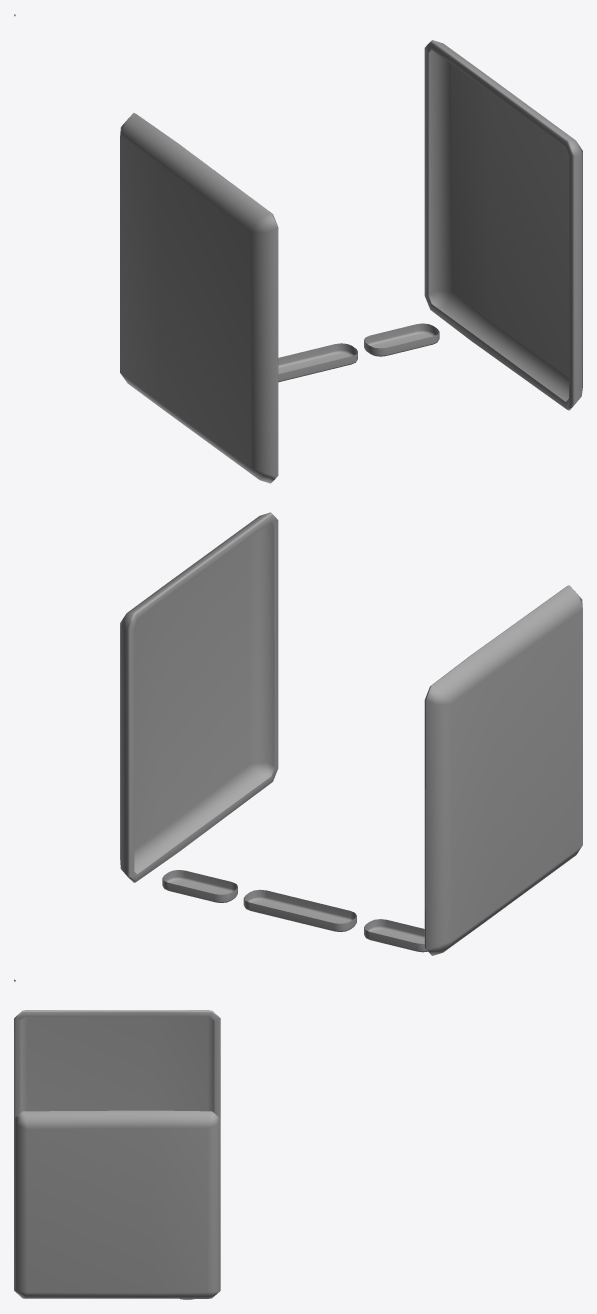
File: AlarmClock_25_AlarmClock_25_0_GeomSubset_2.obj
3 renders of one model, top to bottom at view 1: azimuth 30°, elevation 25°; view 2: azimuth 150°, elevation 25°; view 3: azimuth 270°, elevation 25°, orthographic. The views are drawn at different scales.
Visible parts, largest first — view 1: AlarmClock_25_AlarmClock_25_0_GeomSubset_2; view 2: AlarmClock_25_AlarmClock_25_0_GeomSubset_2; view 3: AlarmClock_25_AlarmClock_25_0_GeomSubset_2.
Part boxes in pixels (<box>): AlarmClock_25_AlarmClock_25_0_GeomSubset_2: <box>14,14,582,483</box>; AlarmClock_25_AlarmClock_25_0_GeomSubset_2: <box>14,512,582,981</box>; AlarmClock_25_AlarmClock_25_0_GeomSubset_2: <box>14,1010,220,1299</box>.
Size of the model in its own units: 0.1963 by 0.1584 by 0.4201.
